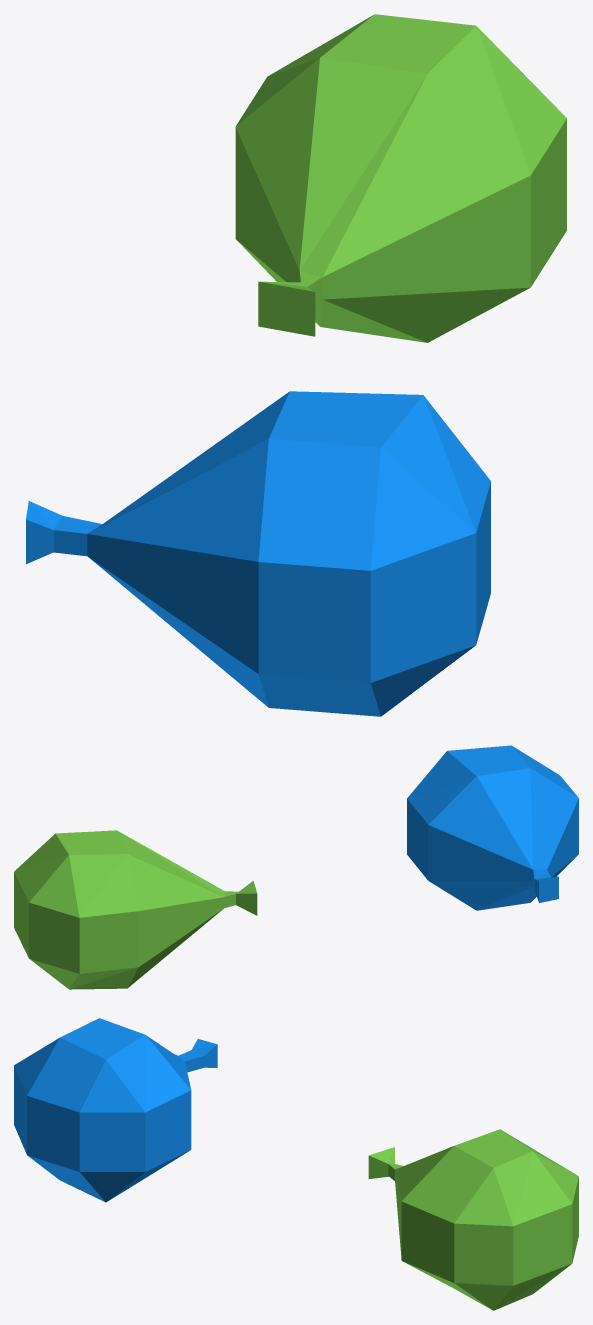
File: obj_party_balloon_7_0.obj
3 renders of one model, top to bottom at view 1: azimuth 30°, elevation 25°; view 2: azimuth 150°, elevation 25°; view 3: azimuth 270°, elevation 25°, orthographic. The views are drawn at different scales.
Size of the model in its own units: 0.5781 by 0.1875 by 0.6719.
